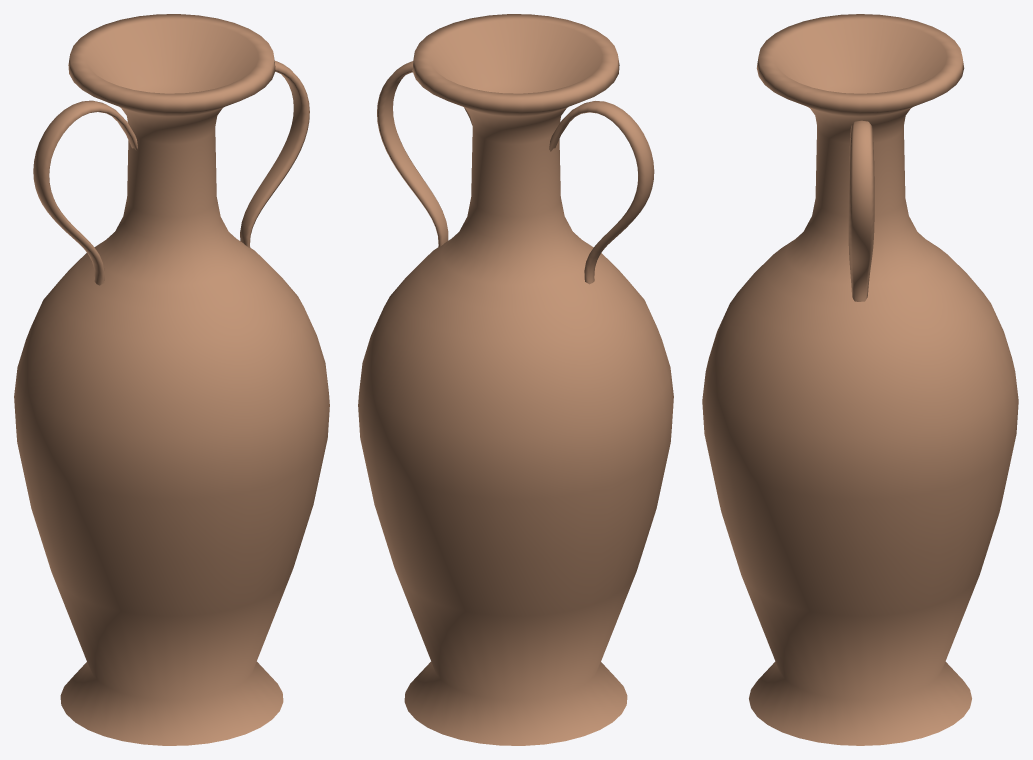
The model's file is (Prop)Jar_01.fbx.
3 renders of one model, left to right at view 1: azimuth 30°, elevation 25°; view 2: azimuth 150°, elevation 25°; view 3: azimuth 270°, elevation 25°, orthographic.
Parts seen in each view (by area): view 1: Jar; view 2: Jar; view 3: Jar.
Boxes of the visible parts, left/top/right/bottom form: Jar: left=14, top=14, right=329, bottom=745; Jar: left=358, top=14, right=673, bottom=745; Jar: left=702, top=14, right=1018, bottom=745.
Bounding box in the file's own units: 57.36 × 128 × 57.36.
